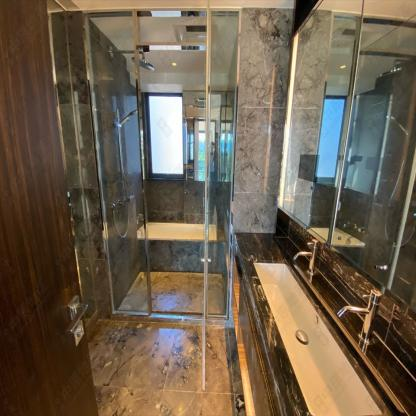Bathtub: (136, 224, 214, 271)
Faucet: (336, 283, 385, 353), (295, 234, 320, 281)
Toilet Sink: (252, 260, 386, 415)
Water Cubicle: (85, 8, 241, 317)
